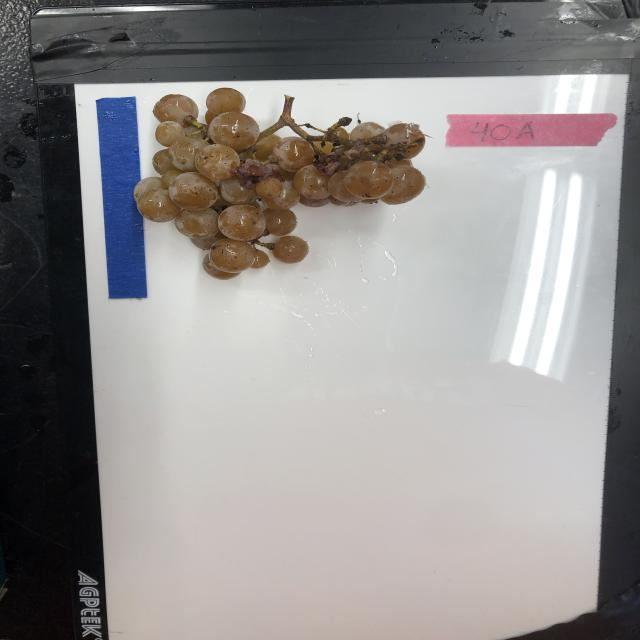grape_cluster: (132, 88, 426, 281)
index: (446, 110, 616, 147)
measure_label: (93, 95, 150, 301)
